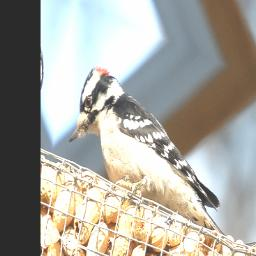Woodpecker: (65, 57, 240, 243)
